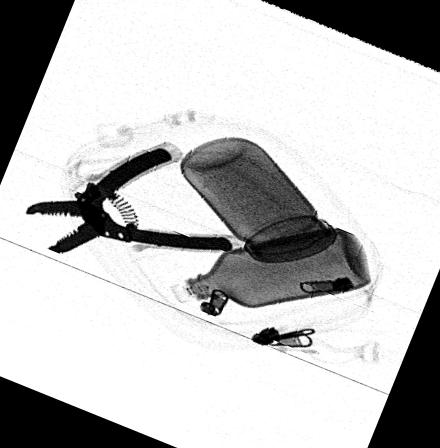Pliers: (24, 143, 233, 254)
